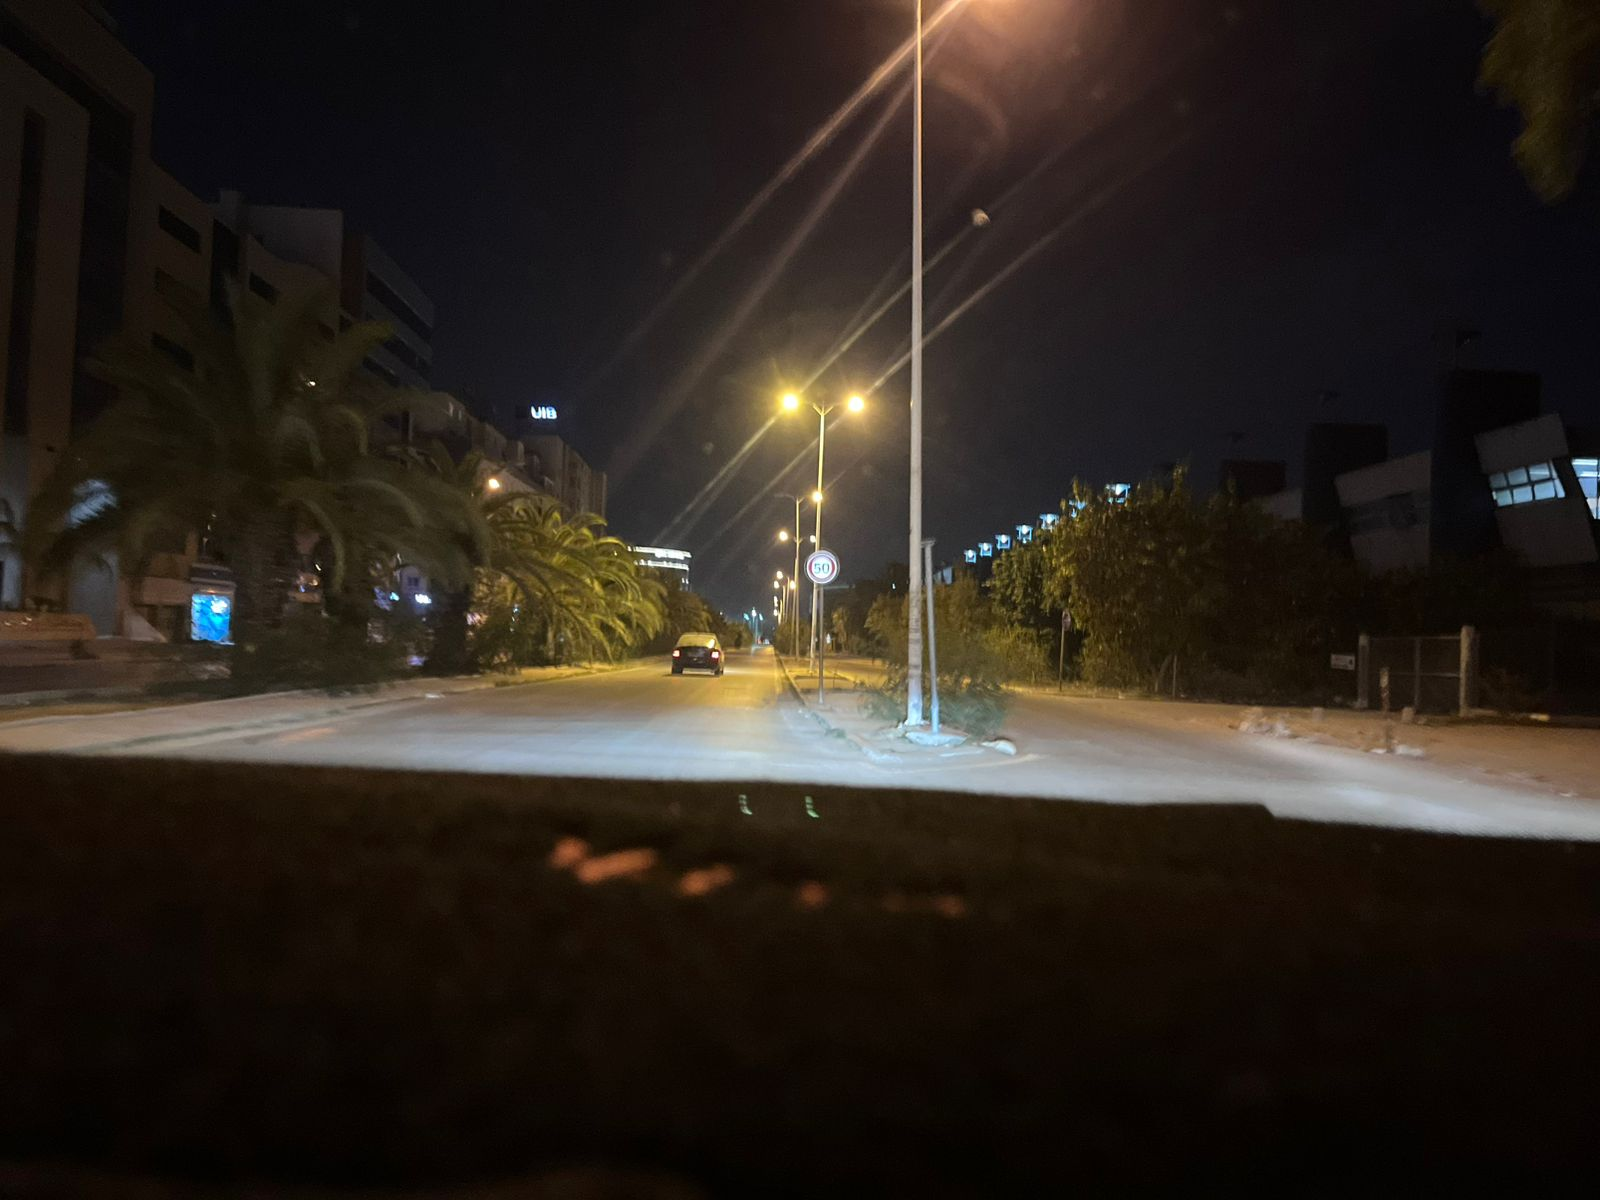SpeedLimit50: (803, 549, 841, 586)
